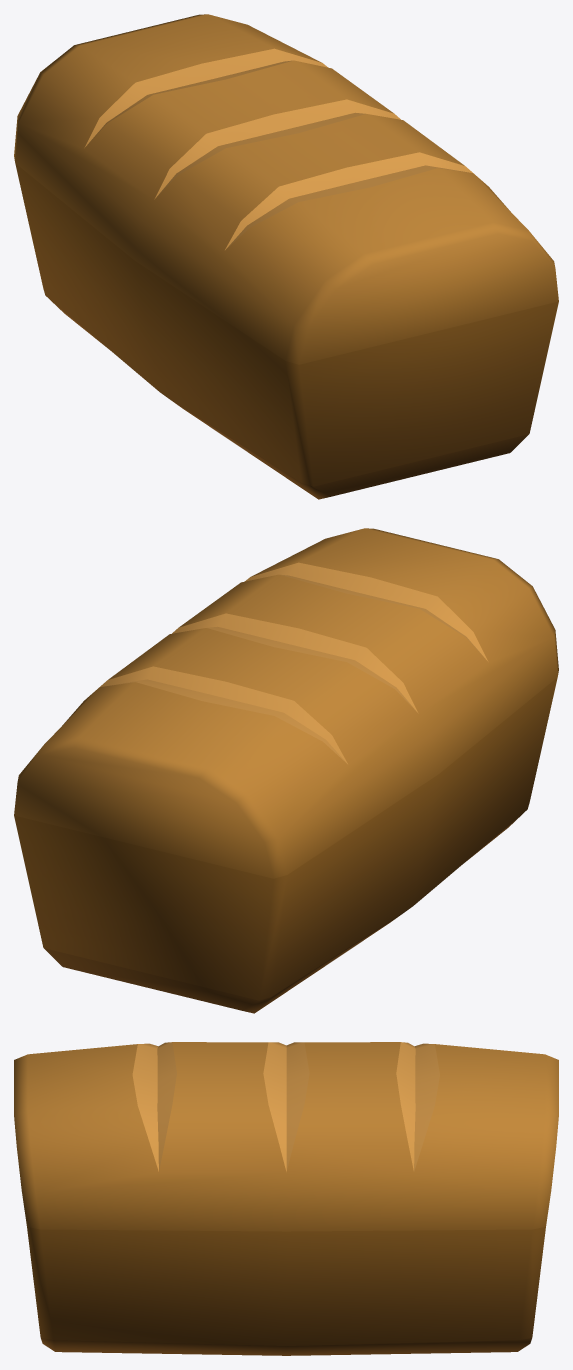
File: Bread_1_B_001.glb
3 views of the same model, one above another, from view 1: azimuth 30°, elevation 25°; view 2: azimuth 150°, elevation 25°; view 3: azimuth 270°, elevation 25° (orthographic). The views are drawn at different scales.
Visible parts, largest first — view 1: Bread_1_B.001; view 2: Bread_1_B.001; view 3: Bread_1_B.001.
Boxes of the visible parts, x1,y1,x2,y2 form: Bread_1_B.001: (14, 14, 558, 499); Bread_1_B.001: (14, 528, 558, 1013); Bread_1_B.001: (14, 1042, 558, 1355).
Bounding box in the file's own units: 0.2297 × 0.1874 × 0.3914.
Materials: 1 (1 with a texture image).
